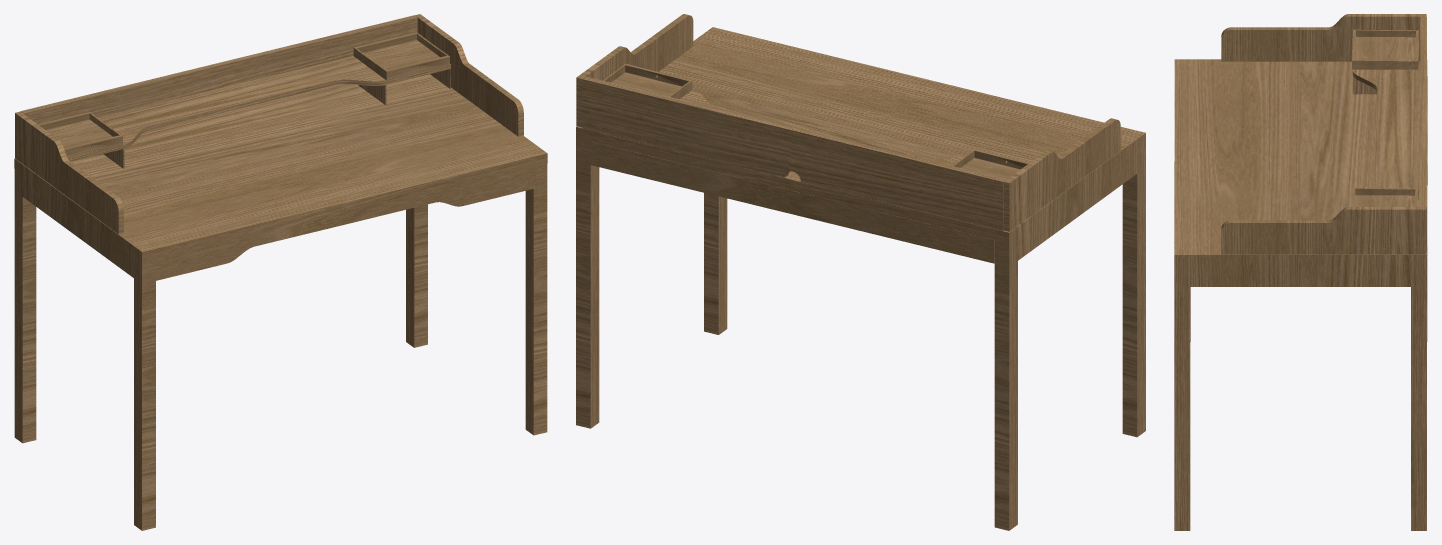
The model's file is desk-transformed.glb.
The picture shows the model from 3 angles, left to right: view 1: azimuth 30°, elevation 25°; view 2: azimuth 150°, elevation 25°; view 3: azimuth 270°, elevation 25°; orthographic projection. The views are drawn at different scales.
Visible parts, largest first — view 1: Cylinder02; view 2: Cylinder02; view 3: Cylinder02.
Boxes of the visible parts, x1,y1,x2,y2 form: Cylinder02: (14, 14, 547, 530); Cylinder02: (576, 14, 1145, 530); Cylinder02: (1174, 14, 1427, 530).
Size of the model in its own units: 27.91 by 21.38 by 15.27.
1 material, 1 textured.
